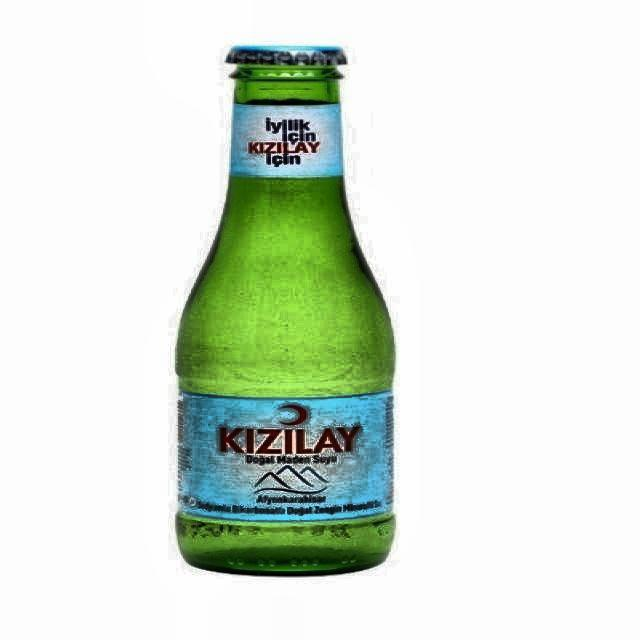glass: (175, 45, 397, 578)
